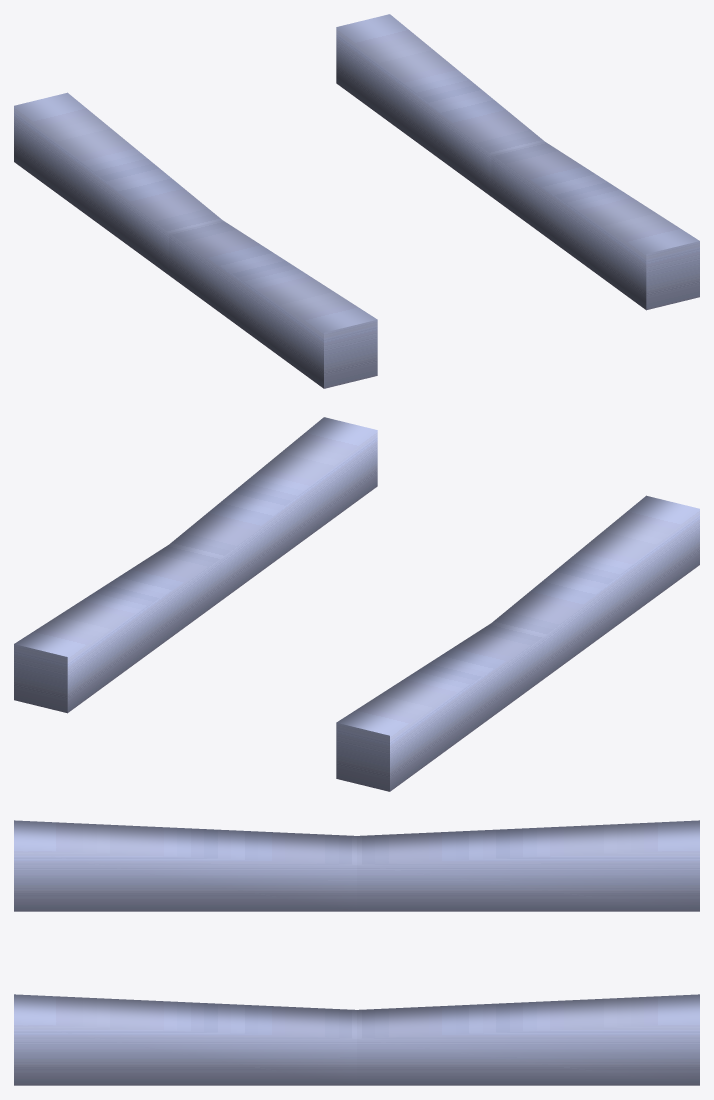
The model's file is spline-track-damaged.glb.
The picture shows the model from 3 angles, top to bottom: view 1: azimuth 30°, elevation 25°; view 2: azimuth 150°, elevation 25°; view 3: azimuth 270°, elevation 25°; orthographic projection. The views are drawn at different scales.
Visible parts, largest first — view 1: spline-track-damaged; view 2: spline-track-damaged; view 3: spline-track-damaged.
Boxes of the visible parts, x1,y1,x2,y2 form: spline-track-damaged: (14,14,699,388); spline-track-damaged: (14,417,699,791); spline-track-damaged: (14,820,699,1085).
Size of the model in its own units: 0.7 by 0.1 by 1.
Materials: 1 (1 with a texture image).
